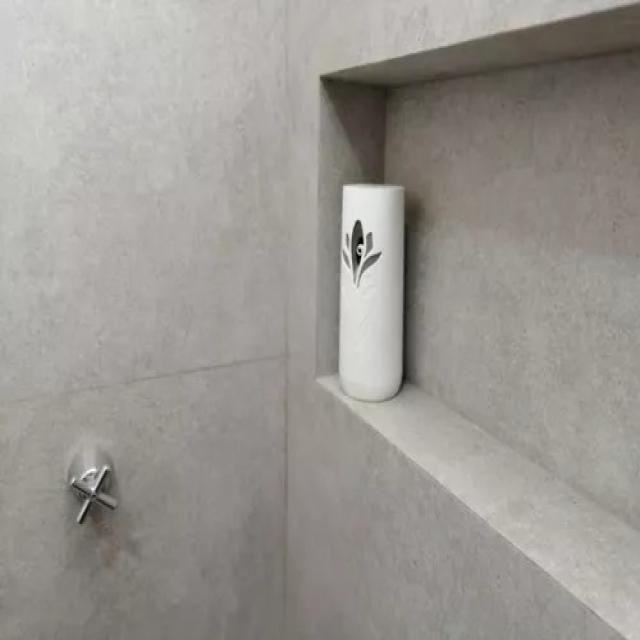hidden camera: (356, 245, 363, 256)
